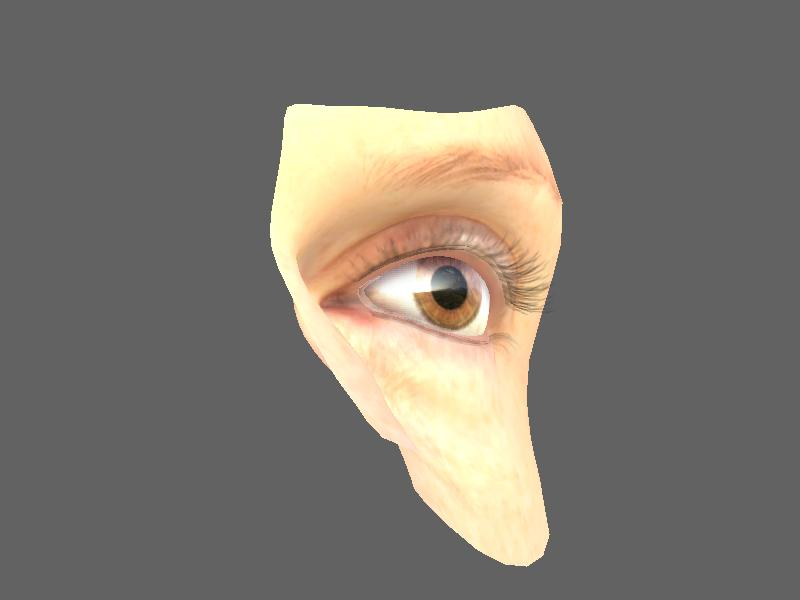iris: (411, 255, 485, 329)
